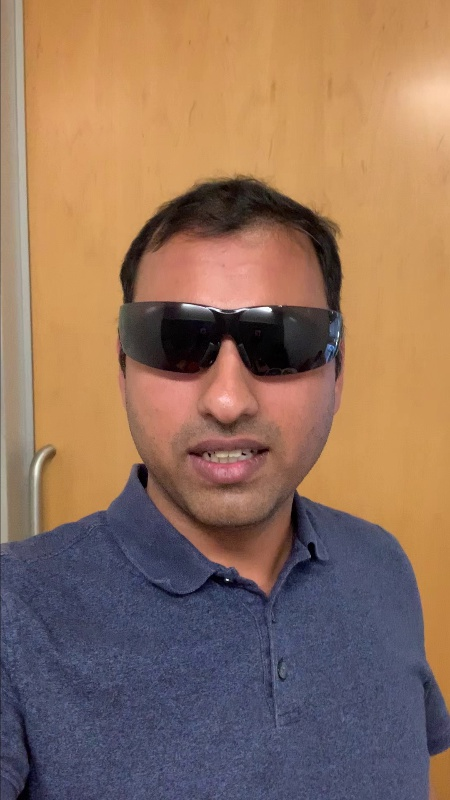glasses: (108, 297, 351, 382)
